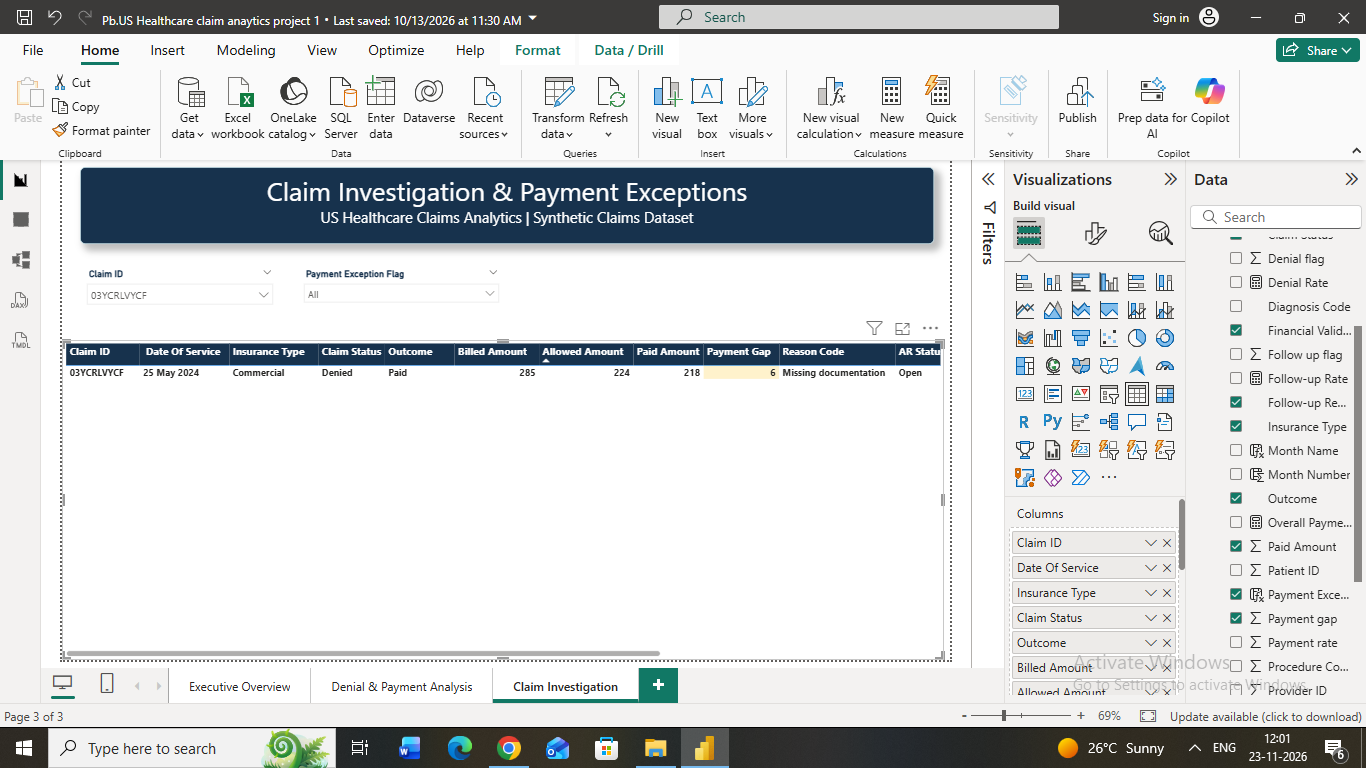

This screenshot's page, from the dashboard's own definition file:
{"tool":"powerbi","page":{"name":"Claim Investigation","canvas":[1280,720],"ordinal":2},"visuals":[{"type":"slicer","fields":{"Values":["claim_data.Claim ID"]},"box":[25.9,151.2,288,80.6],"z":0},{"type":"tableEx","fields":{"Values":["claim_data.Claim ID","claim_data.Service Date Cleaned","claim_data.Insurance Type","claim_data.Claim Status","claim_data.Outcome","claim_data.Billed Amount","claim_data.Allowed Amount","claim_data.Paid Amount","claim_data.Payment gap","claim_data.Reason Code","claim_data.AR Status","claim_data.Follow-up Required"]},"box":[0,259.2,1270.1,460.8],"z":1000},{"type":"textbox","box":[25.9,10.1,1229.8,110.9],"z":2000},{"type":"slicer","fields":{"Values":["claim_data.Payment Exception Flag"]},"box":[338.4,151.2,301,80.6],"z":3000}]}

Visuals, with their boxes on the page's 1280x720 design canvas (x1, y1, x2, y2). These are canvas units, not pixel positions in the 1366x768 screenshot, which may show the page scaled, cropped or inside an application window:
slicer - claim_data.Claim ID: 26 151 314 232
tableEx - claim_data.Claim ID x claim_data.Service Date Cleaned: 0 259 1270 720
textbox: 26 10 1256 121
slicer - claim_data.Payment Exception Flag: 338 151 639 232
